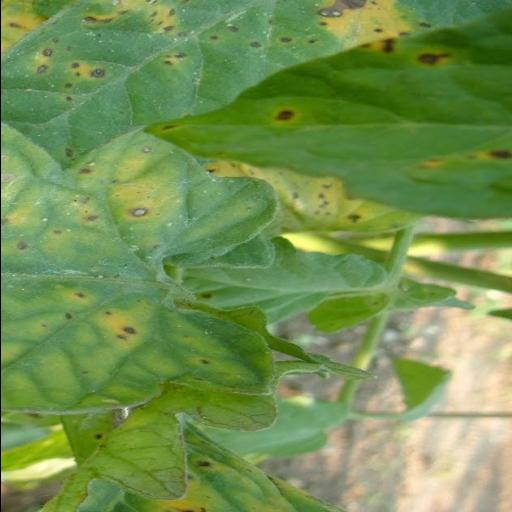disease_tomato: (0, 0, 512, 170), (0, 122, 277, 422), (148, 5, 512, 220)
